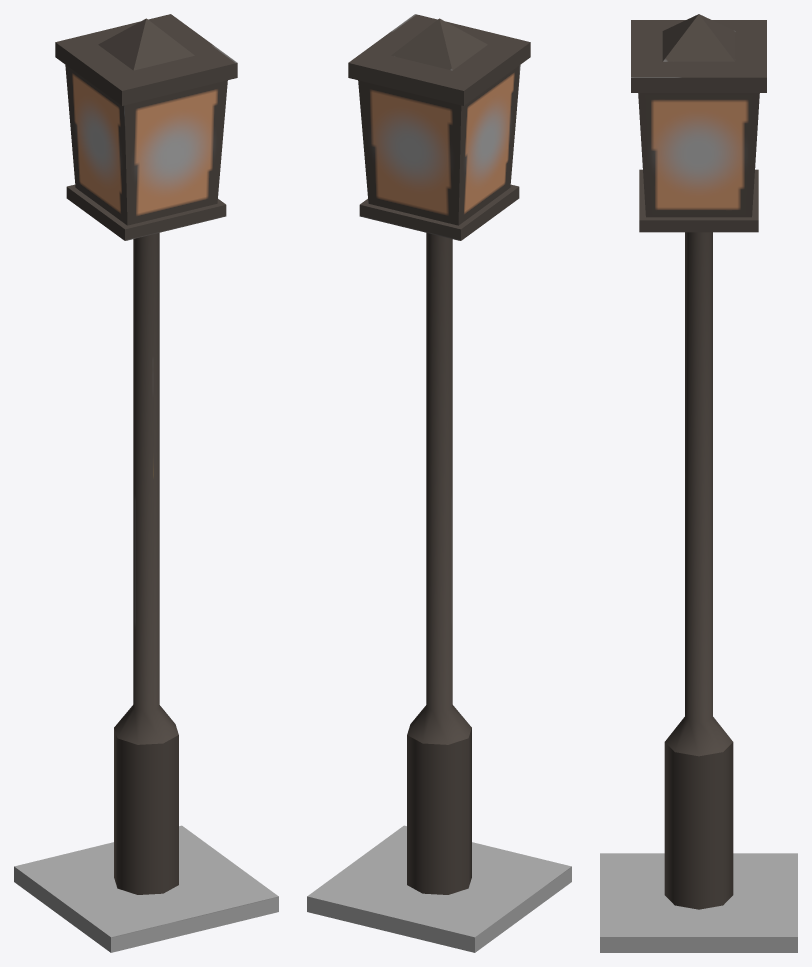
File: PRP_Lamp.fbx
The picture shows the model from 3 angles, left to right: view 1: azimuth 30°, elevation 25°; view 2: azimuth 150°, elevation 25°; view 3: azimuth 270°, elevation 25°; orthographic projection. The views are drawn at different scales.
Visible parts, largest first — view 1: Cube.073, Cylinder.001, Cube.074; view 2: Cube.073, Cylinder.001, Cube.074; view 3: Cube.073, Cylinder.001, Cube.074.
Boxes of the visible parts, x1,y1,x2,y2 form: Cube.073: (55, 14, 237, 240); Cylinder.001: (114, 233, 178, 894); Cube.074: (14, 825, 278, 952); Cube.073: (348, 14, 530, 240); Cylinder.001: (407, 233, 471, 894); Cube.074: (307, 825, 571, 952); Cube.073: (631, 14, 766, 232); Cylinder.001: (664, 232, 733, 909); Cube.074: (600, 853, 797, 952).
Bounding box in the file's own units: 102 × 512 × 102.
Materials: 1 (1 with a texture image).
